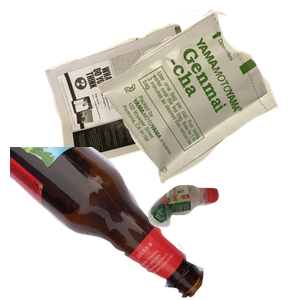glass: (10, 147, 207, 300)
paper: (42, 21, 249, 181)
plastic: (146, 182, 300, 300)
trash: (91, 10, 300, 186)
